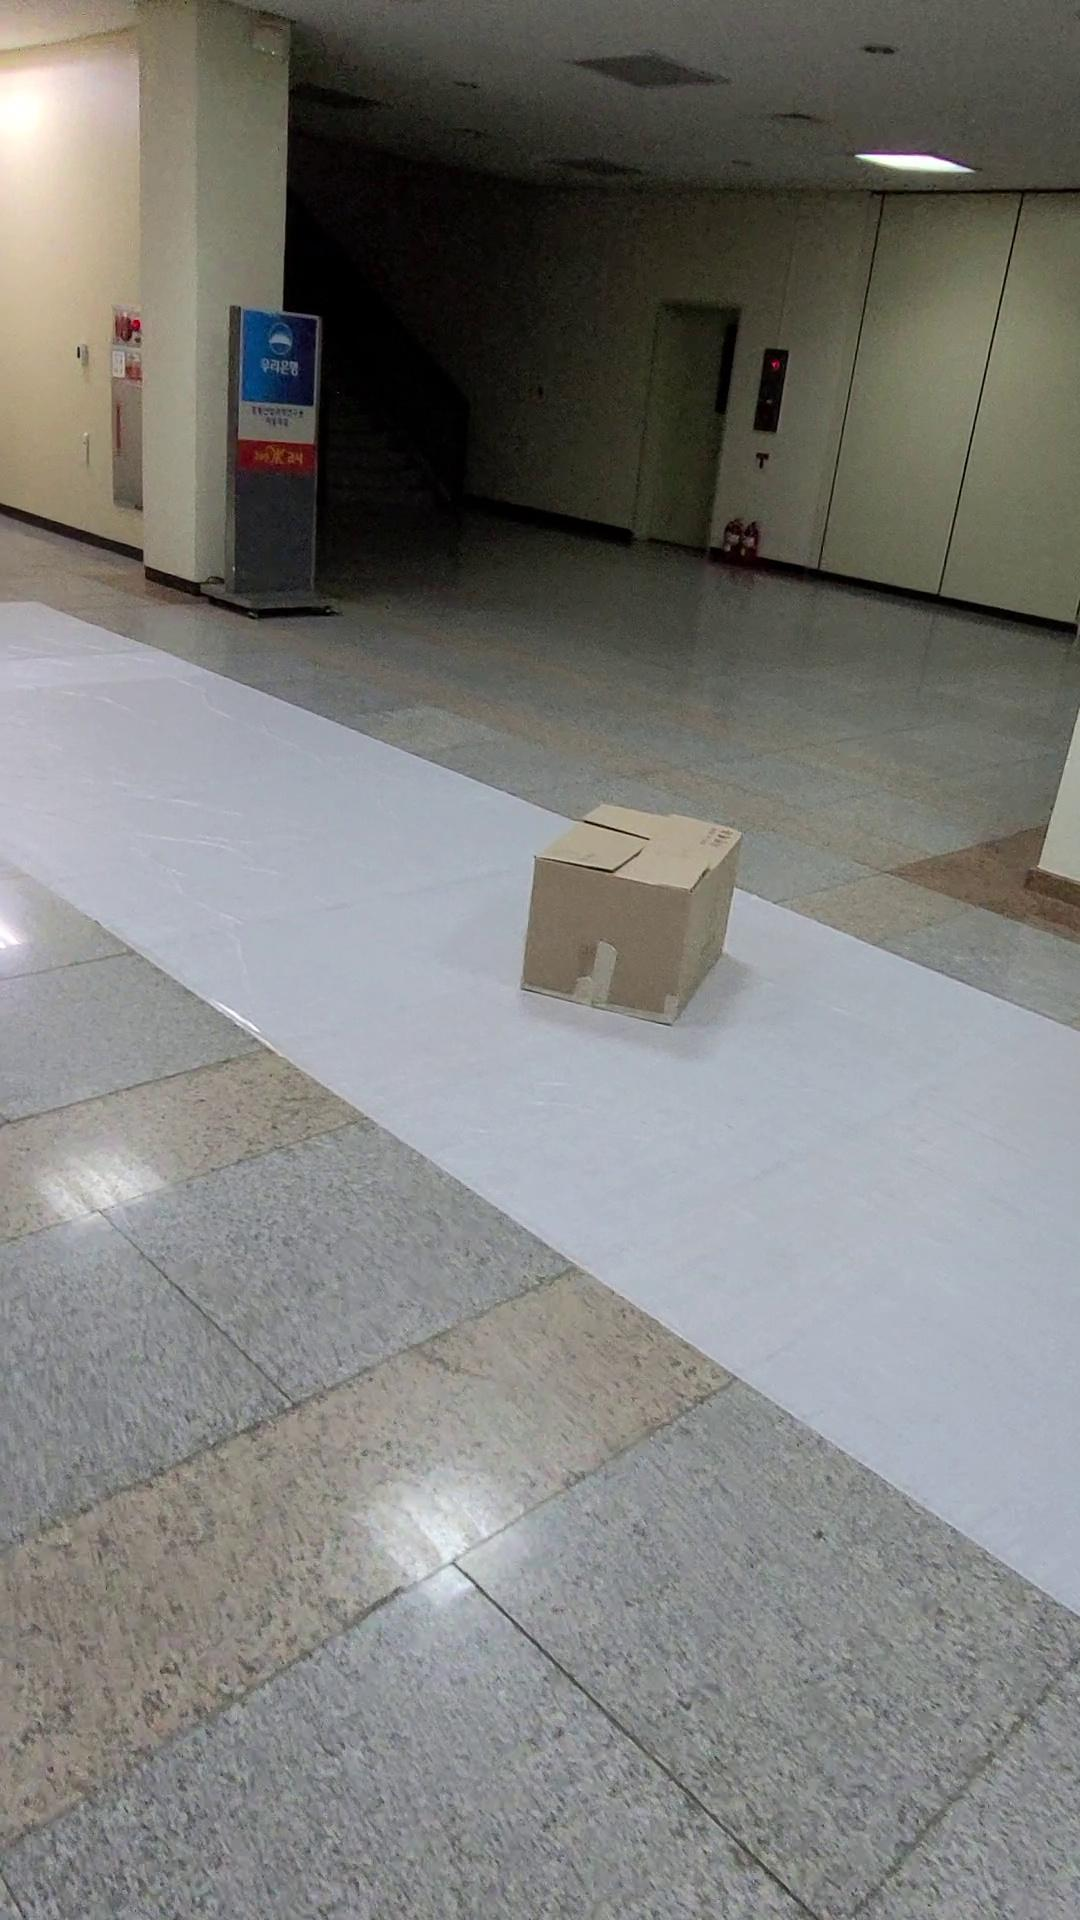Box: (488, 773, 777, 1063)
